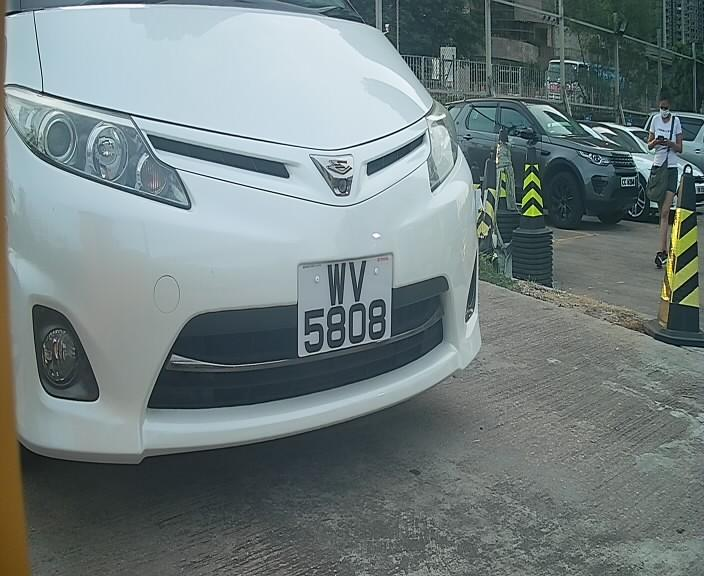License Plate: (293, 247, 403, 366)
